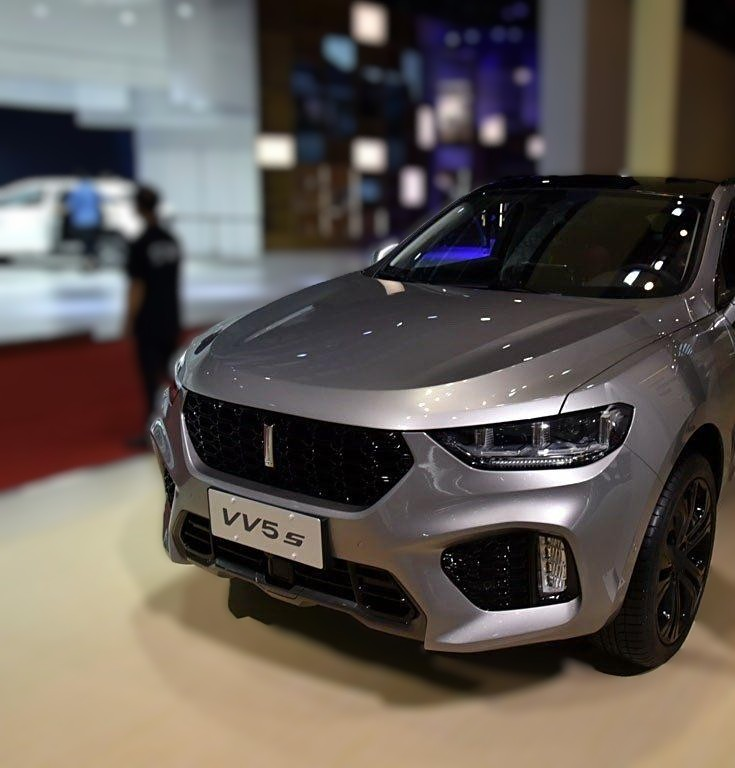WEY: (265, 427, 272, 467)
